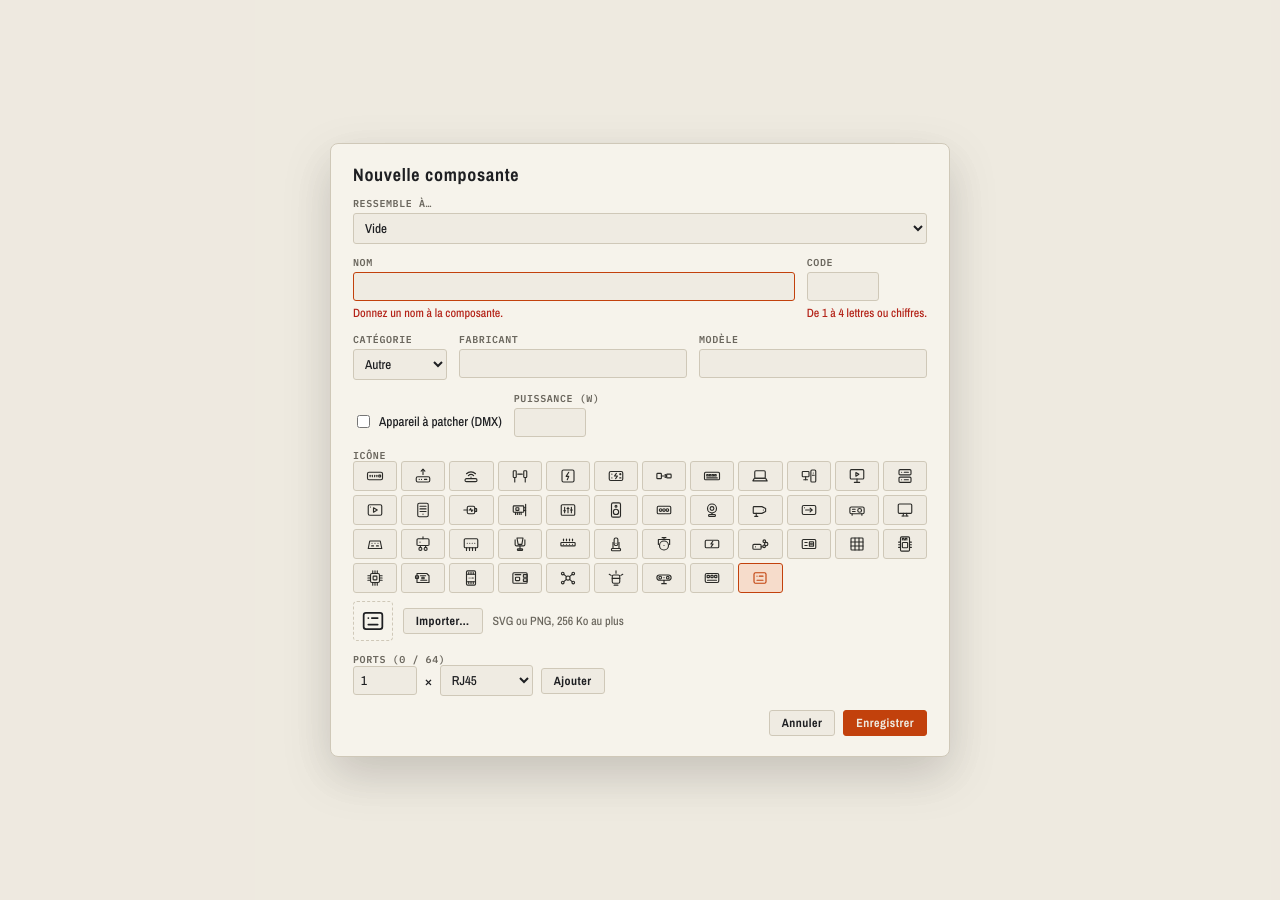
Scenario: ComponentEditor › Enregistrer reste désactivé tant que la composante n’est pas valide, et dit pourquoi
Check: the button "Enregistrer" is disabled, box [843, 710, 927, 736]
Check: the text "Donnez un nom à la composante." is shown, box [353, 305, 503, 321]
Type "Capteur LiDAR" into the field labelled "Nom" at x=574, y=287, box [353, 272, 795, 301]
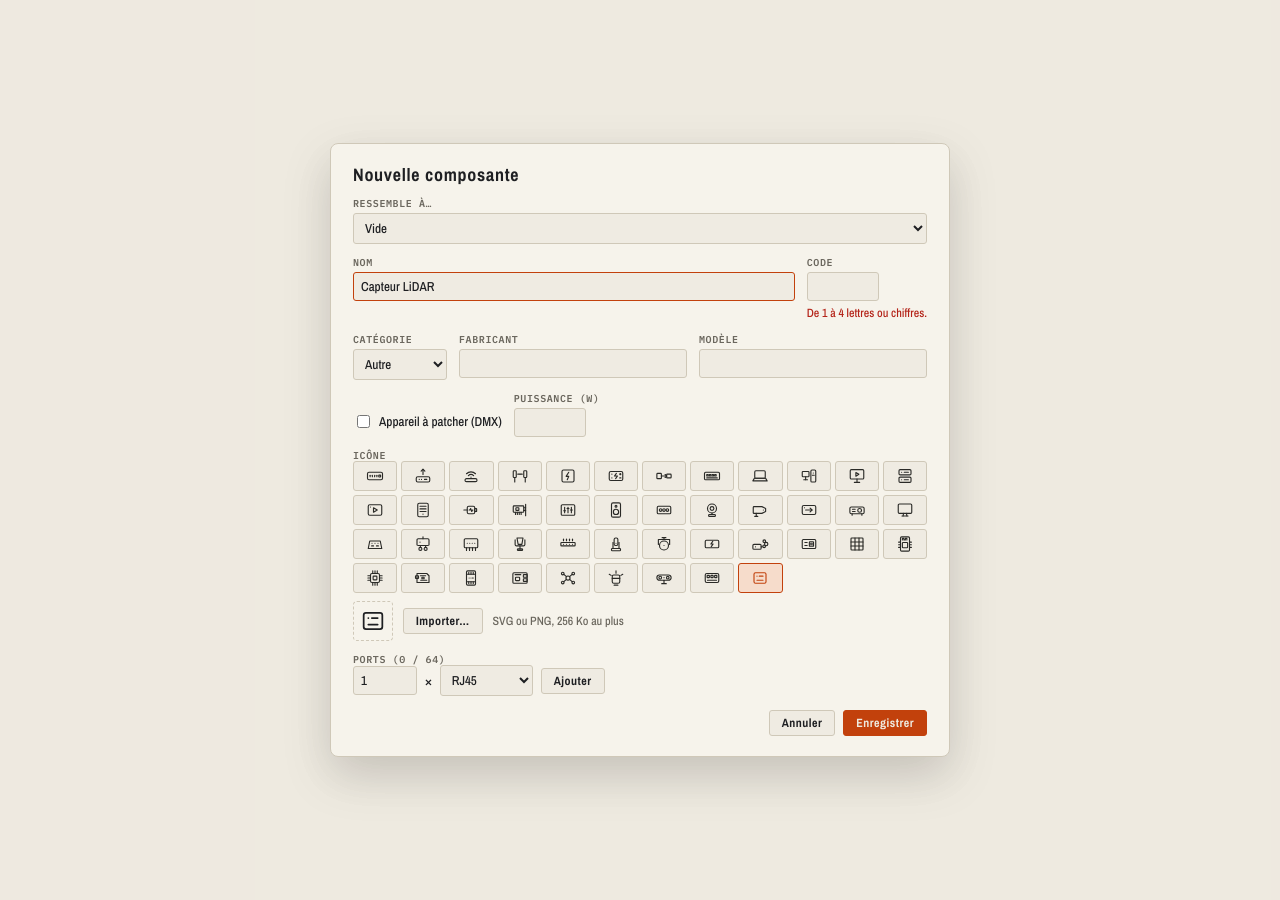
Type "lid" into the field labelled "Code" at x=843, y=287, box [807, 272, 879, 301]
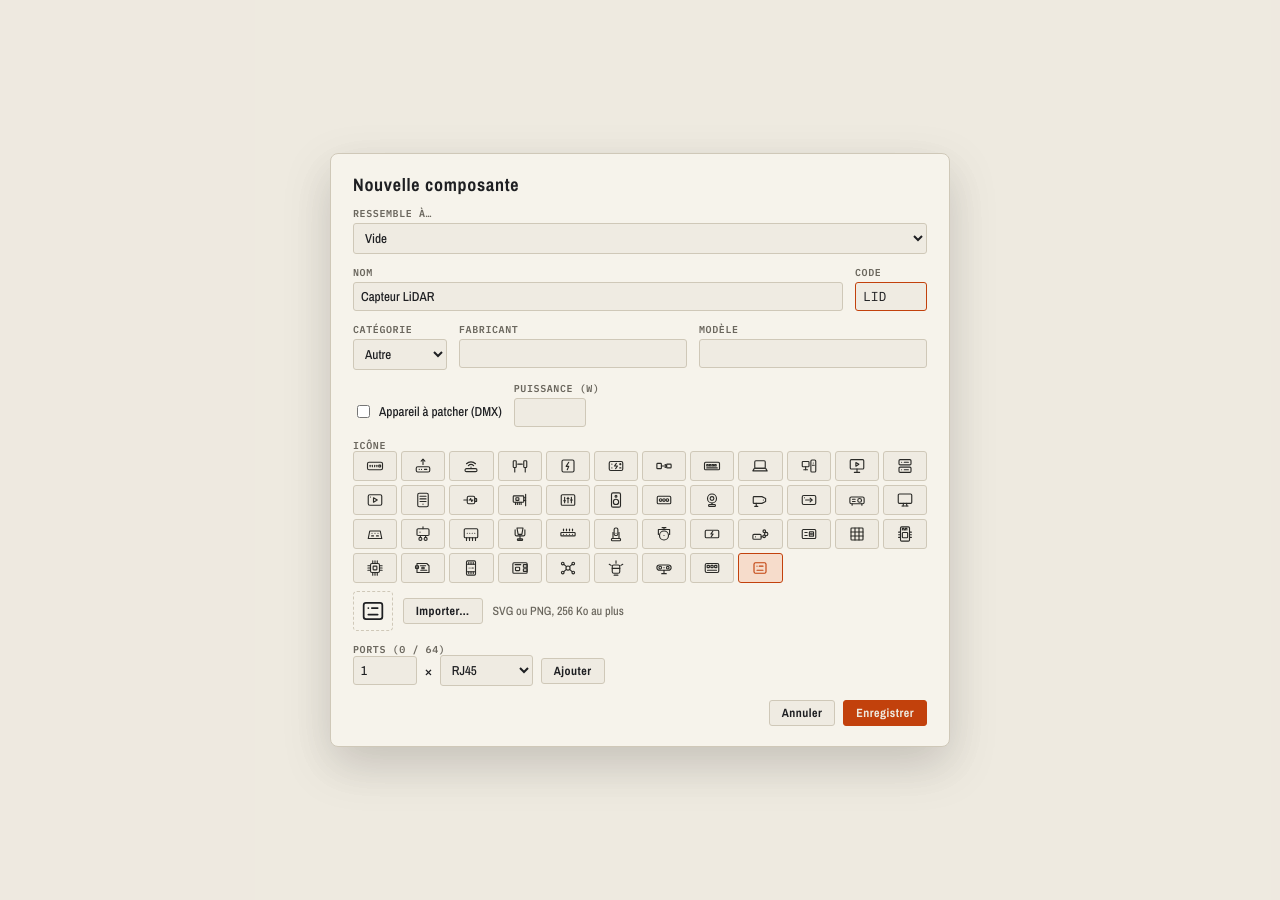
Check: the button "Enregistrer" is enabled, box [843, 700, 927, 726]
